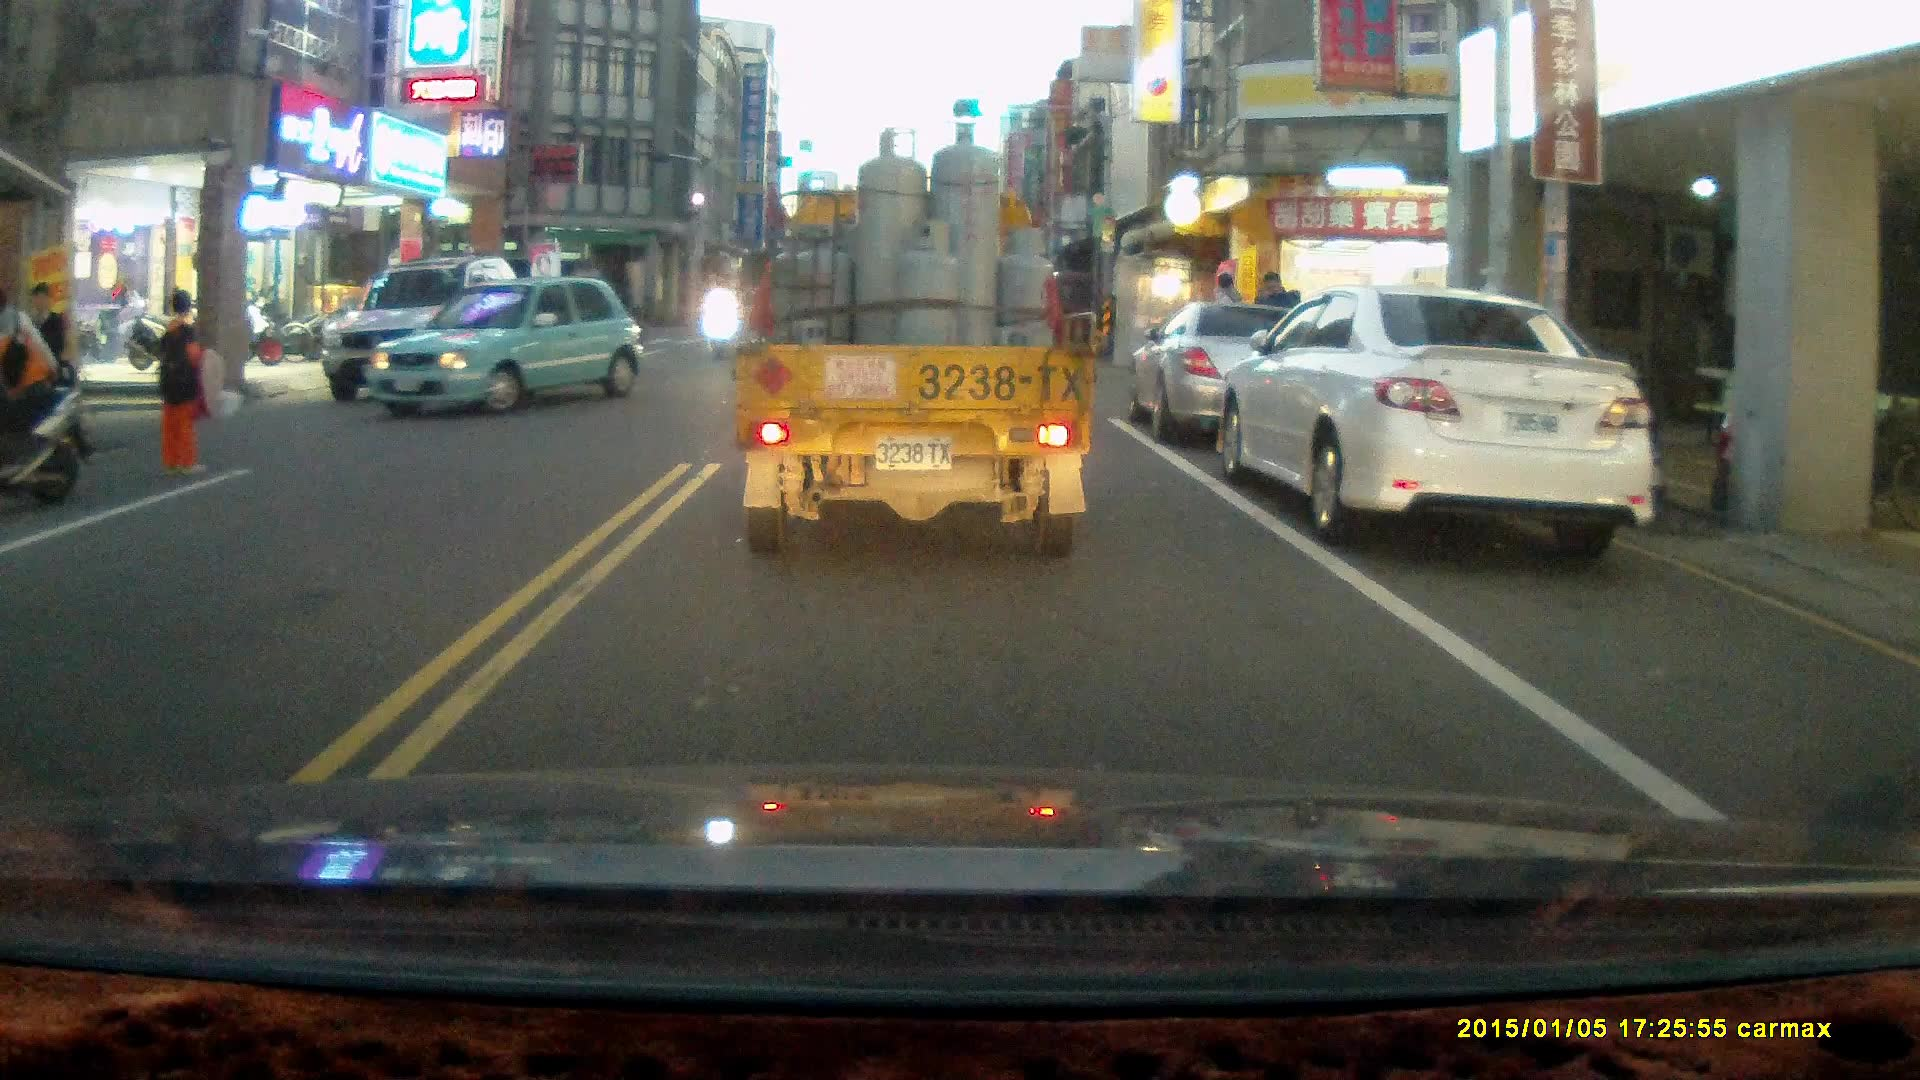pedestrian: (150, 288, 230, 476), (19, 282, 69, 443)
rider: (704, 280, 734, 360)
vehicle: (729, 122, 1094, 562), (1222, 282, 1662, 560), (1131, 298, 1406, 449), (368, 277, 645, 420)
